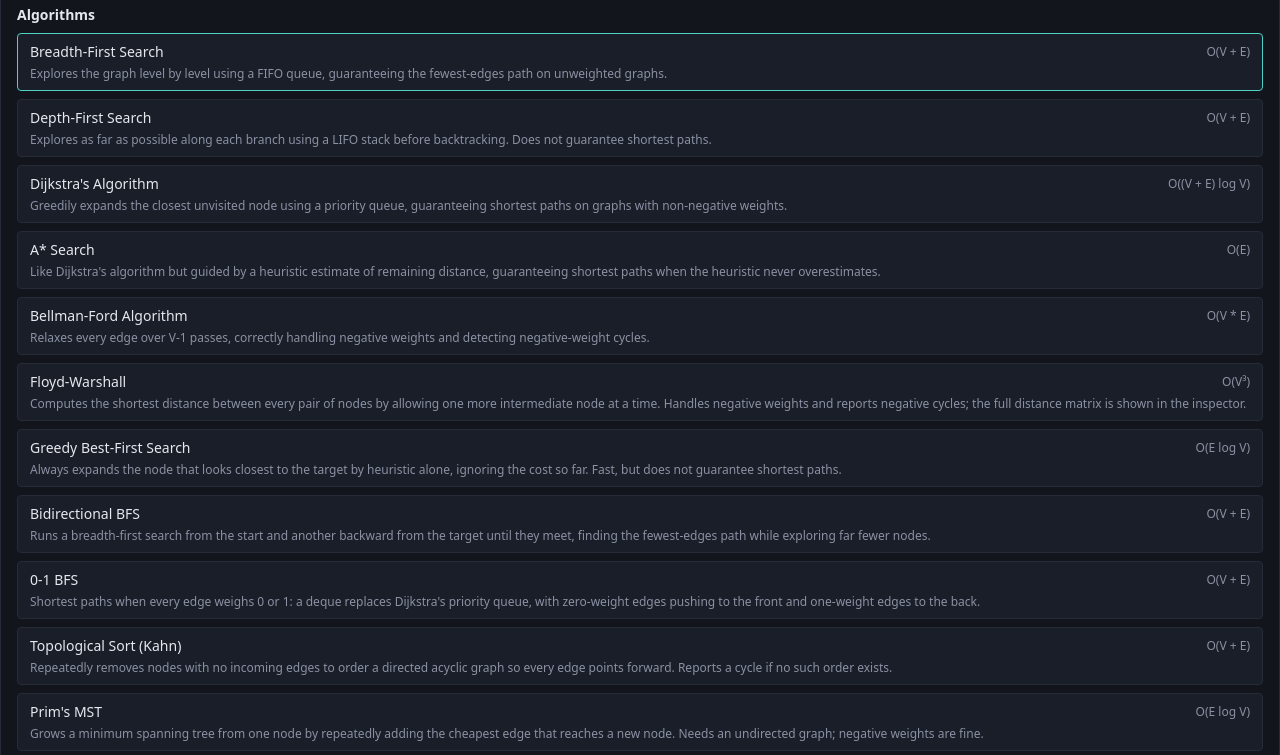
it: AlgorithmPanel › shows complexity and requirements for the selected algorithm, updating on selection
The width and height of the screenshot is (1280, 755).
Click the button "Bellman-Ford Algorithm" at (640, 326), box top-left (17, 297), bottom-right (1263, 355)
(page scrolled)
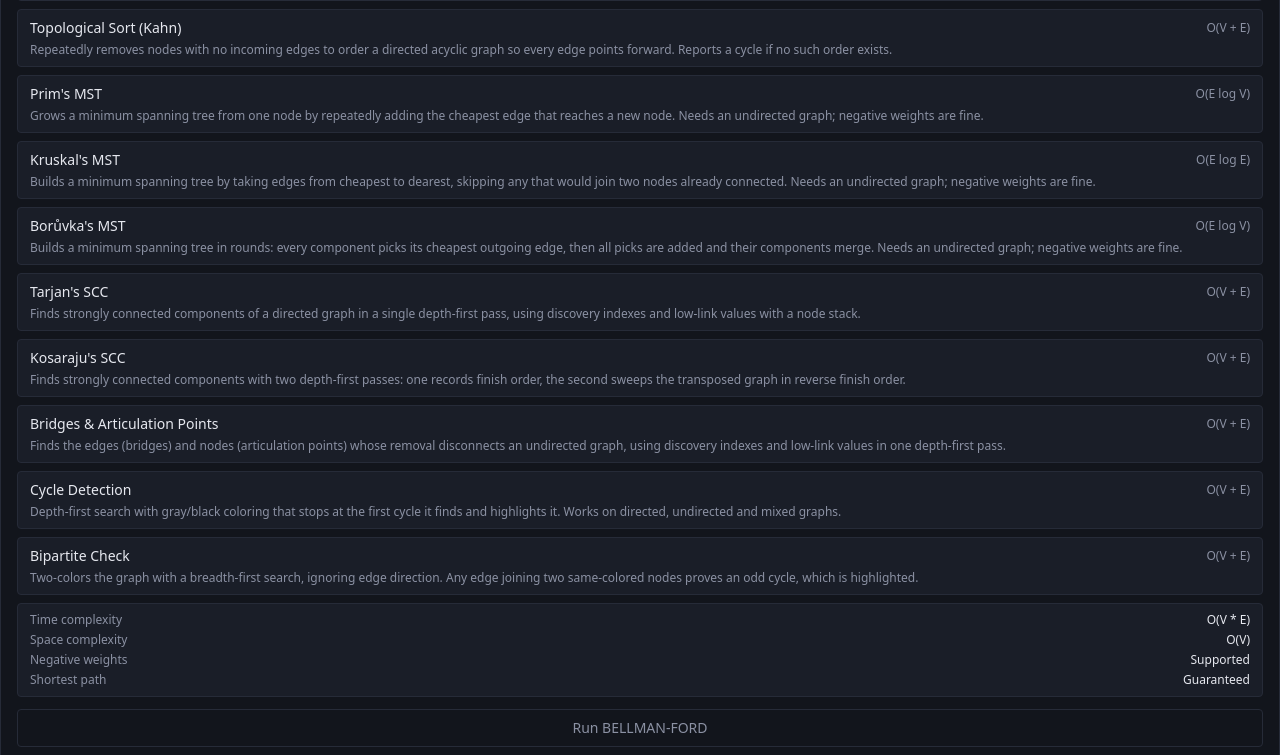
Expected: the text "Time complexity" shows "Supported", top-left (1190, 651), bottom-right (1250, 668)
Result: the text "Time complexity" shows "O(V * E)" at top-left (1207, 611), bottom-right (1250, 628)
